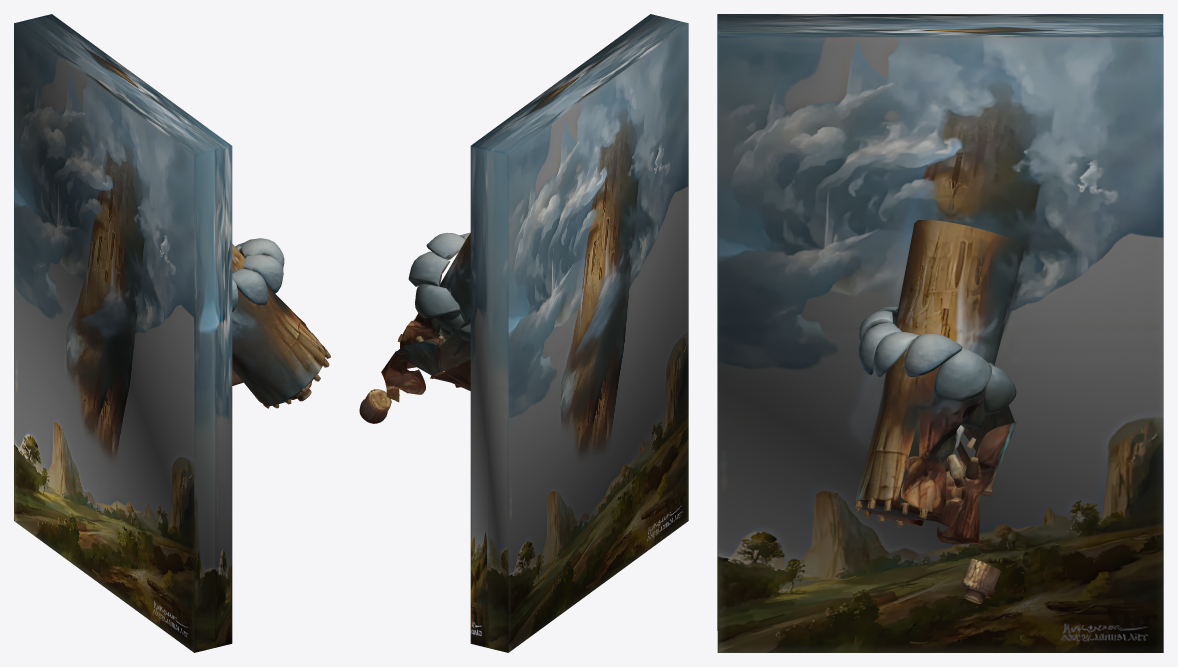
The model's file is tower.glb.
The picture shows the model from 3 angles, left to right: view 1: azimuth 30°, elevation 25°; view 2: azimuth 150°, elevation 25°; view 3: azimuth 270°, elevation 25°; orthographic projection. The views are drawn at different scales.
Parts seen in each view (by area): view 1: tripo_node_7d89b902-680a-4c8d-817c-5baf4dd055c7; view 2: tripo_node_7d89b902-680a-4c8d-817c-5baf4dd055c7; view 3: tripo_node_7d89b902-680a-4c8d-817c-5baf4dd055c7.
Boxes of the visible parts, x1,y1,x2,y2 form: tripo_node_7d89b902-680a-4c8d-817c-5baf4dd055c7: [14, 14, 330, 652]; tripo_node_7d89b902-680a-4c8d-817c-5baf4dd055c7: [359, 14, 688, 652]; tripo_node_7d89b902-680a-4c8d-817c-5baf4dd055c7: [717, 14, 1163, 652].
Size of the model in its own units: 0.4654 by 0.9995 by 0.6558.
Materials: 1 (1 with a texture image).
